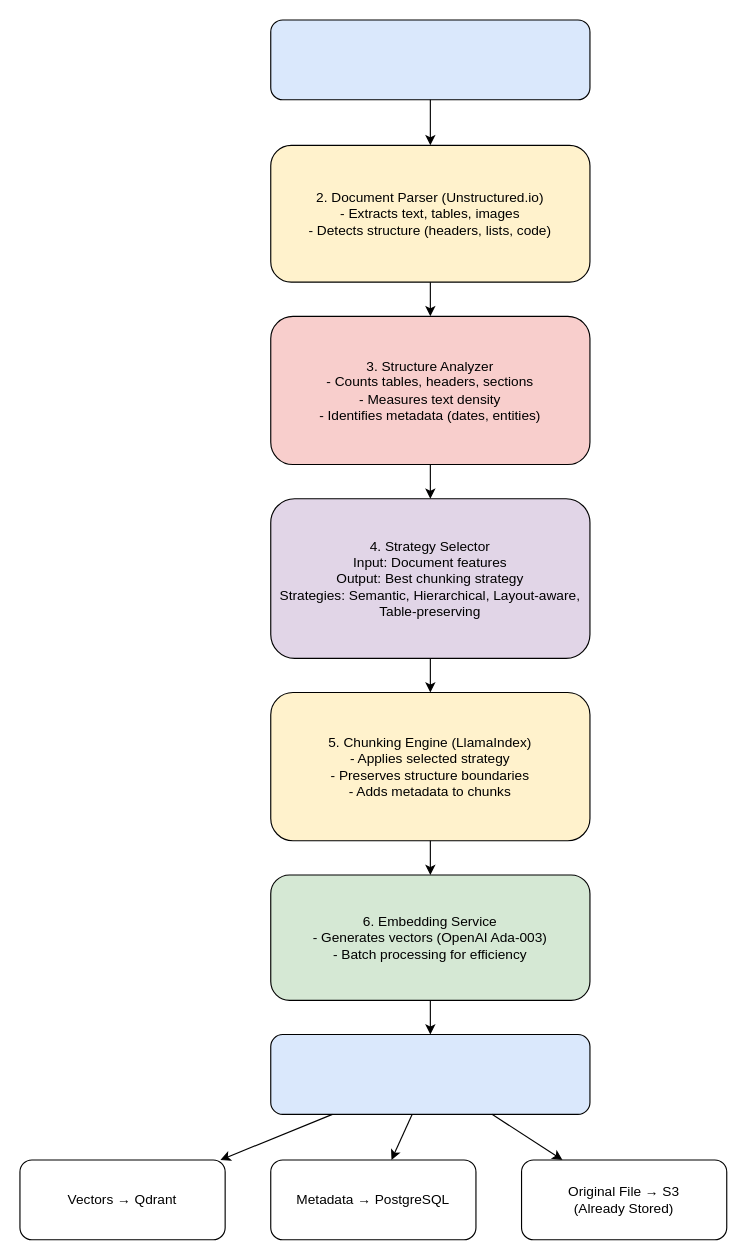
Some shapes in this 747 by 1260 pixel diagram are drawn without their labels. The centre of each missing label's shape, as x and y in pixels:
1. File Downloaded from S3: the point at 430,59
7. Storage: the point at 430,1073
